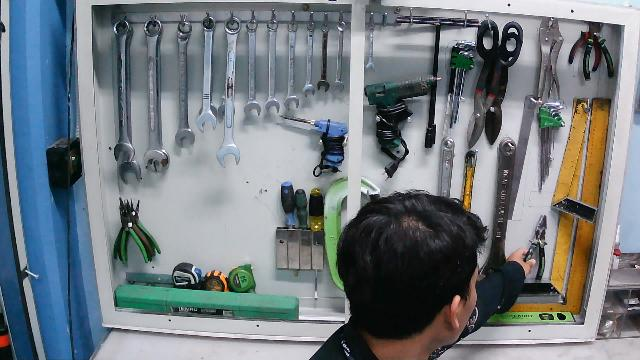tang_kombinasi: (523, 211, 550, 285)
